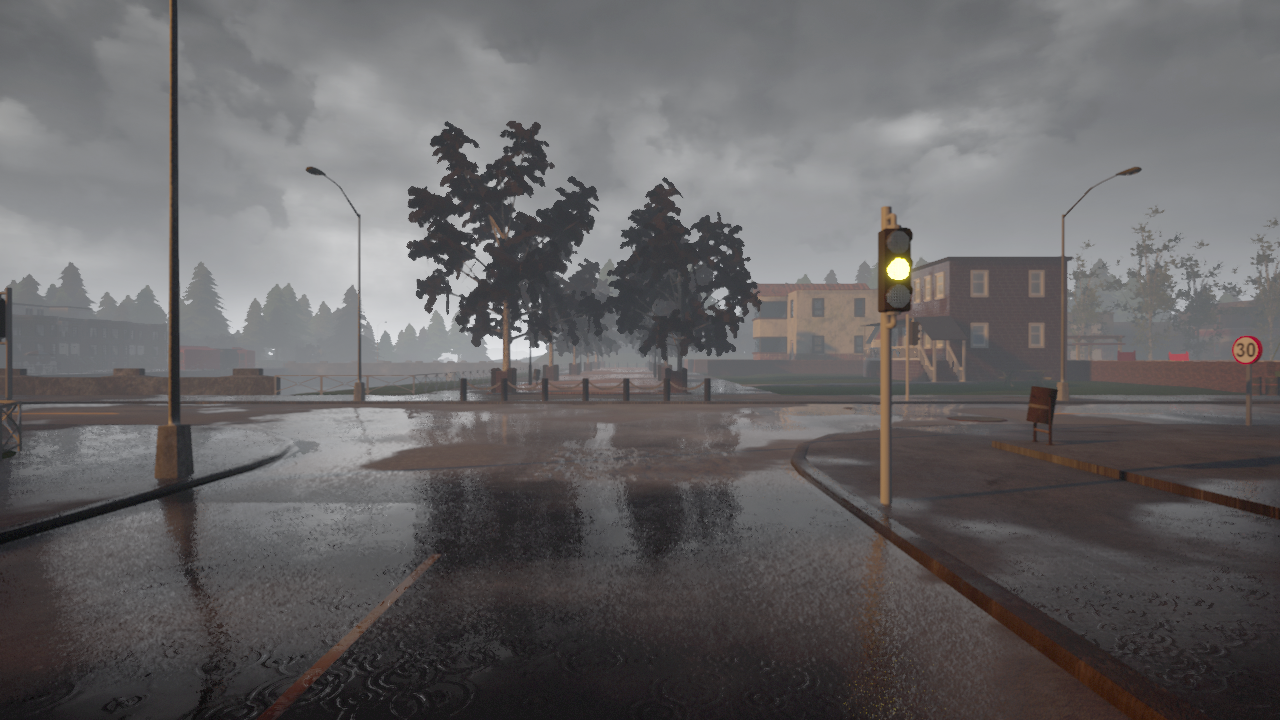yellow: (877, 225, 908, 315)
